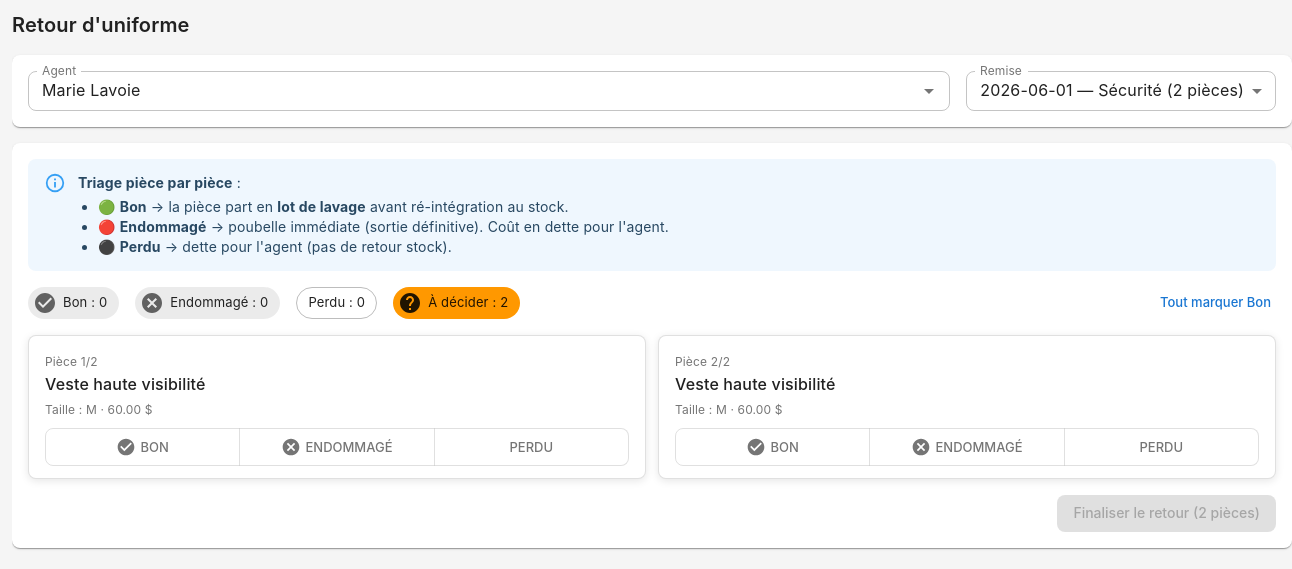
it: UniformReturnsPage › « Tout marquer Bon » active le bouton de finalisation
Expected: the dropdown showing "Marie Lavoie" is shown, [34, 77, 885, 105]
Click the dropdown named "remise" at x=1112, y=90, box [980, 80, 1244, 100]
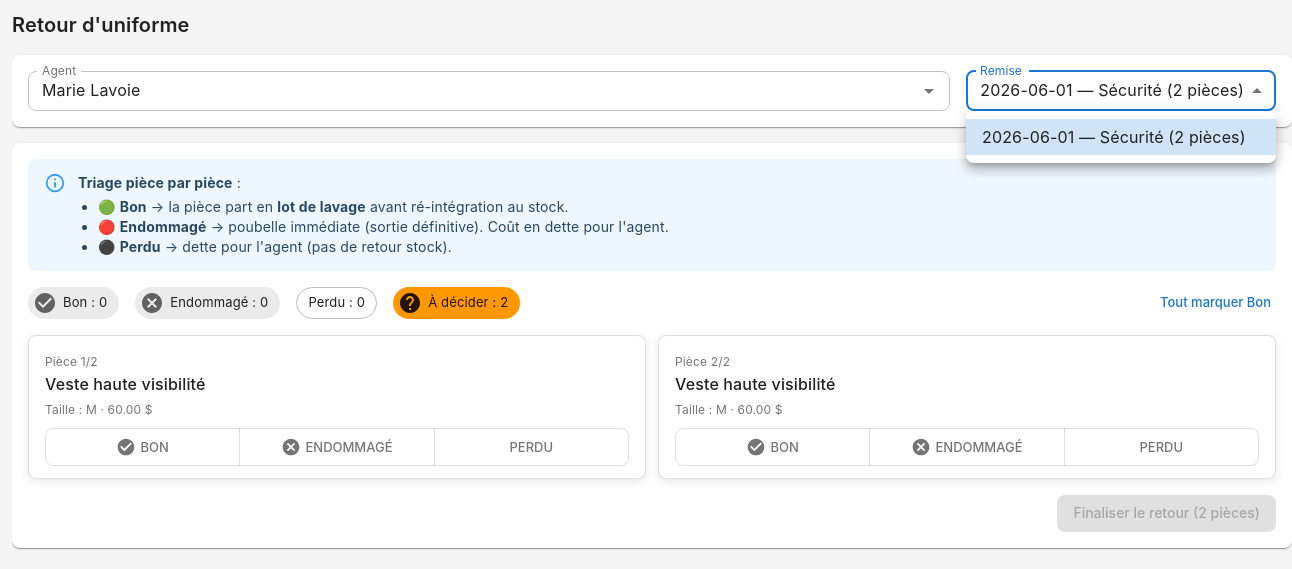
Click the option "2026-06-01 — Sécurité (2 pièces)" at x=1121, y=137, box [966, 119, 1276, 155]
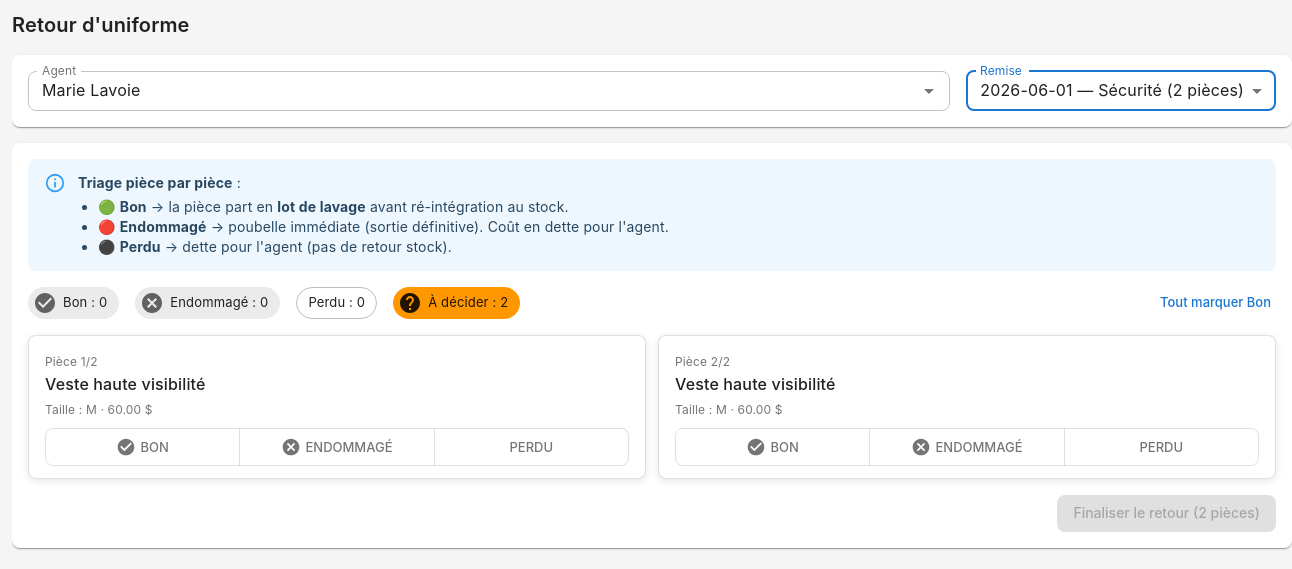
Expected: the text "Pièce 1/2" is shown, [45, 354, 98, 369]
Expected: the button "Finaliser le retour (2 pièces)" is disabled, [1057, 496, 1276, 532]
Click the button "Tout marquer Bon" at x=1216, y=303, box [1155, 287, 1276, 318]
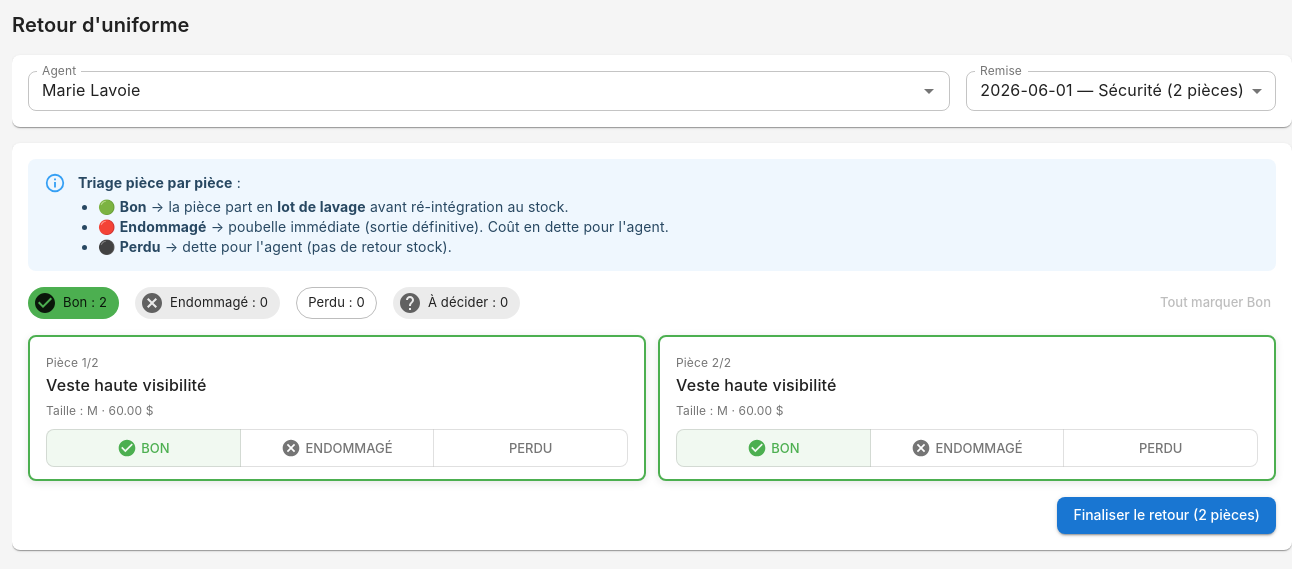
Result: the button "Finaliser le retour (2 pièces)" is enabled at [1057, 498, 1276, 534]
